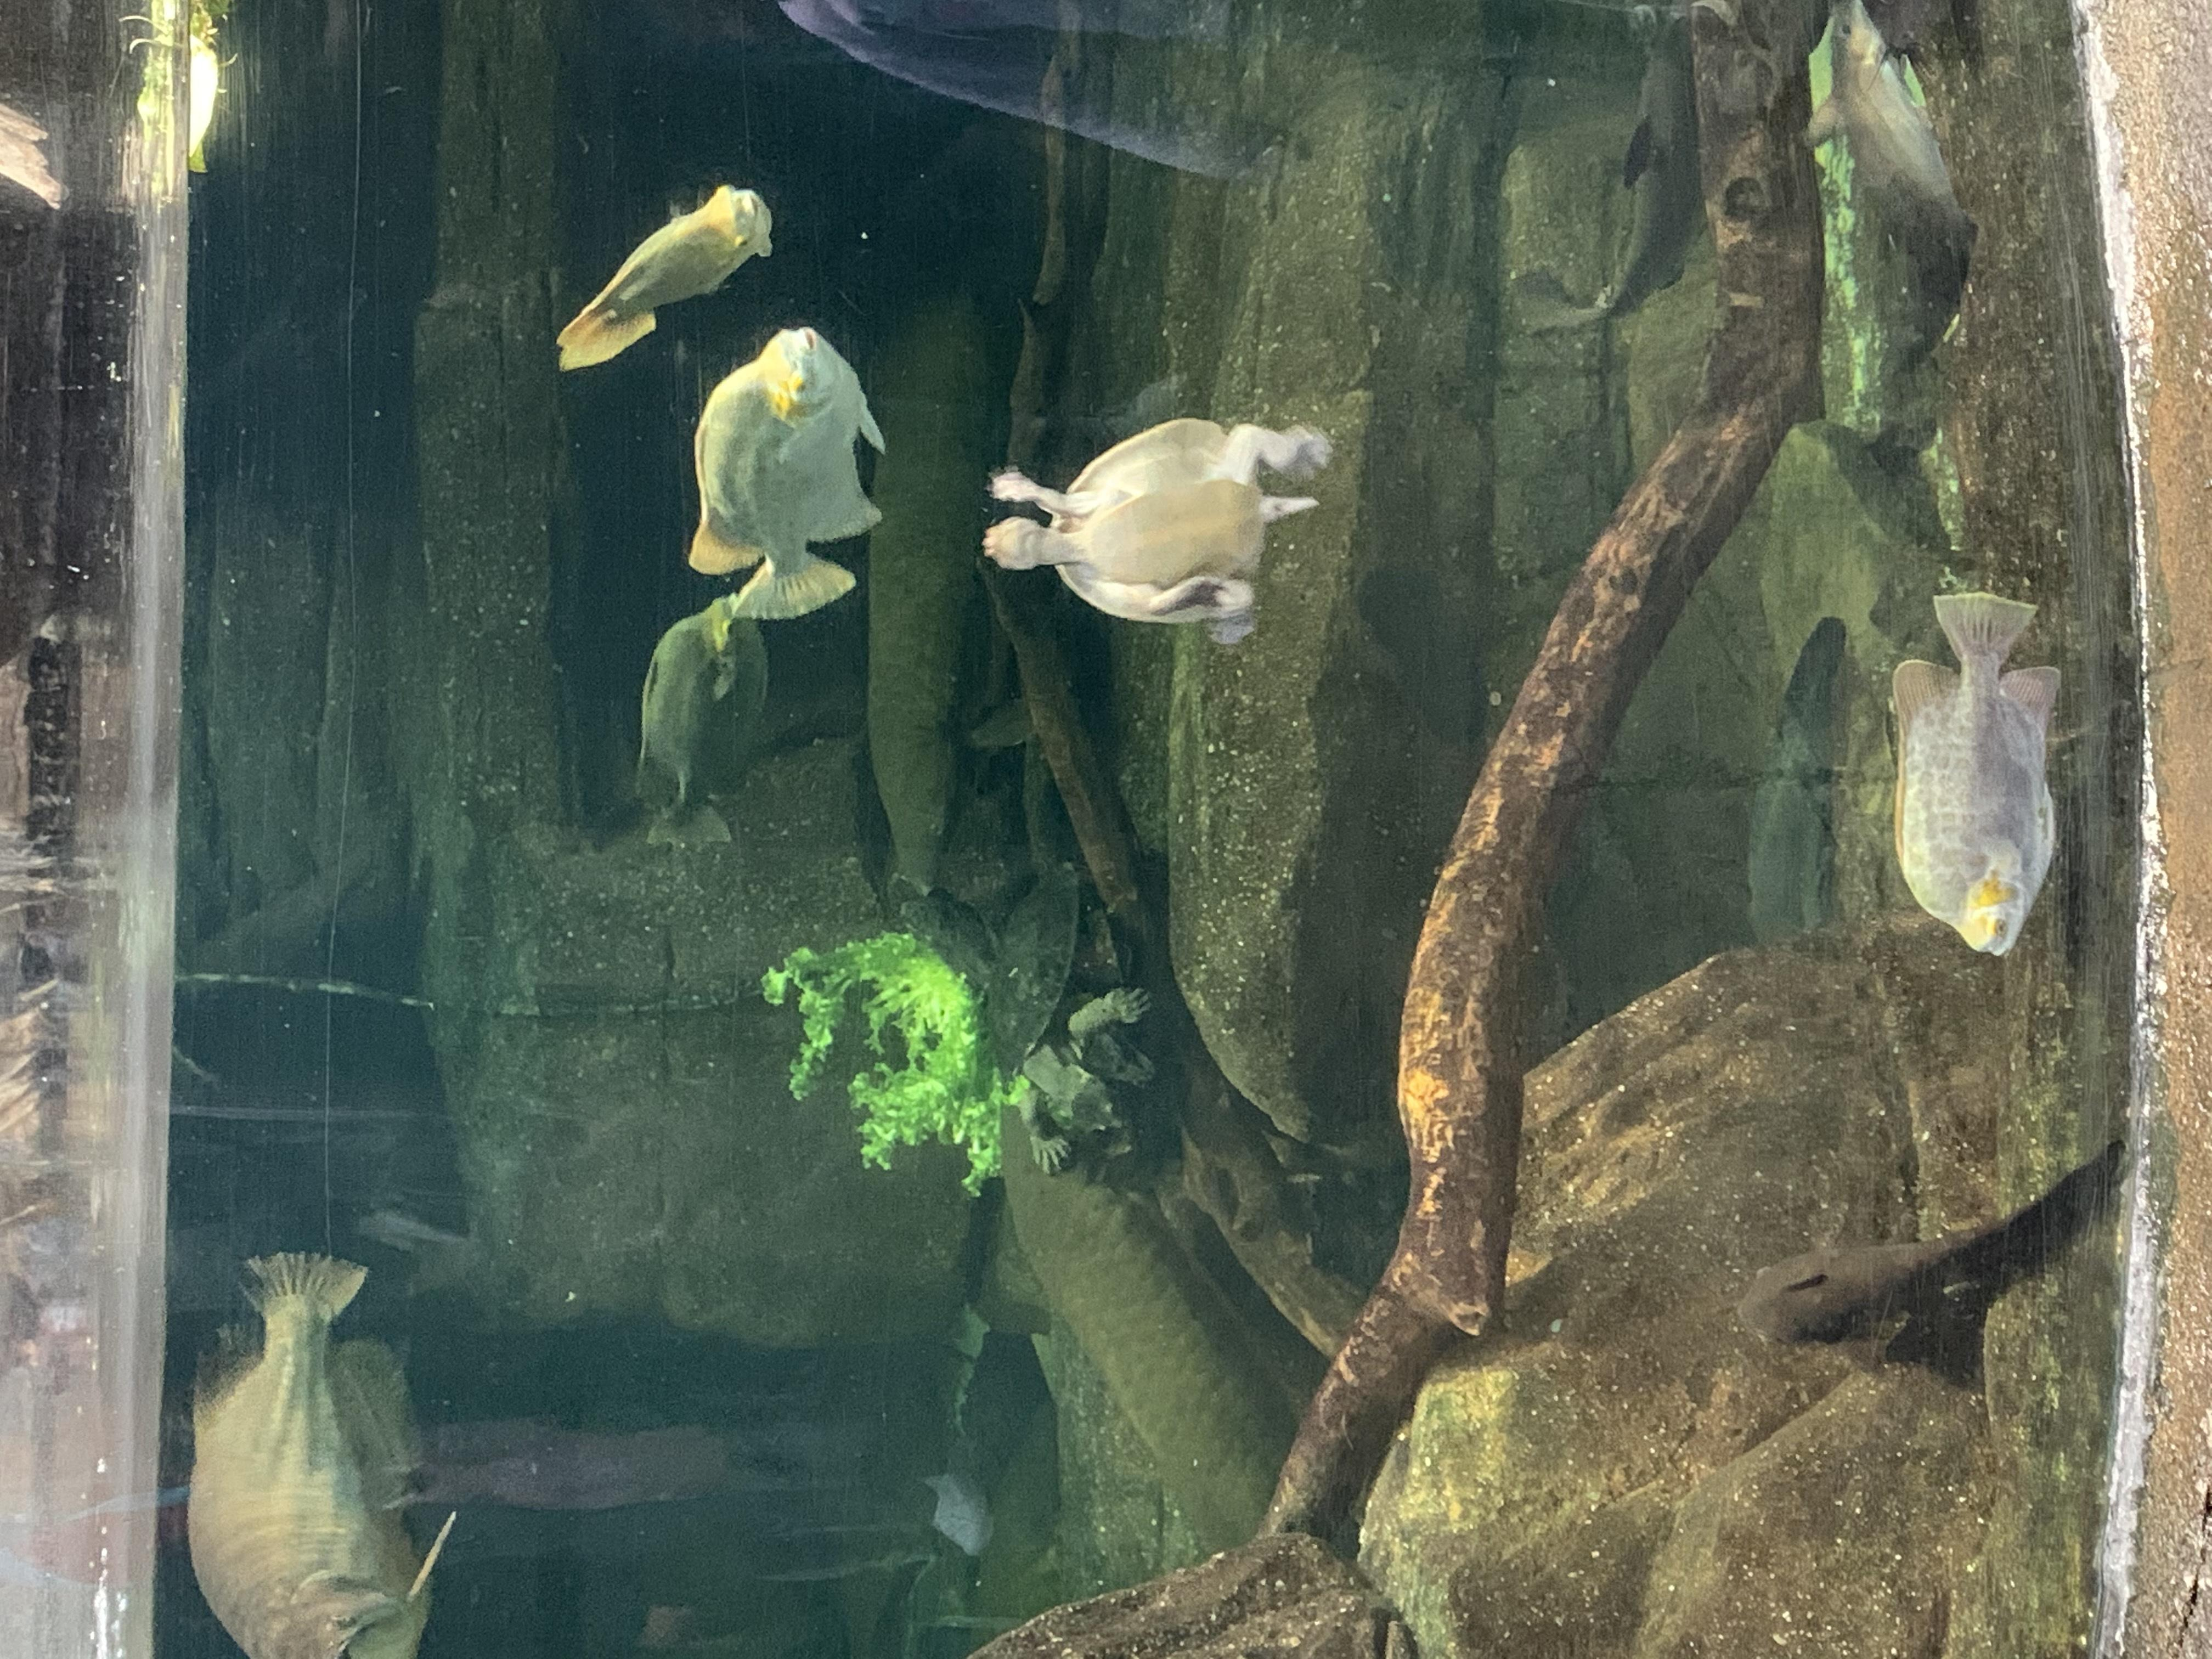fish: (172, 1243, 465, 1659), (1797, 2, 1968, 411), (1503, 12, 1714, 331), (1888, 586, 2066, 960), (683, 331, 885, 626), (545, 176, 777, 375), (634, 592, 782, 854)
